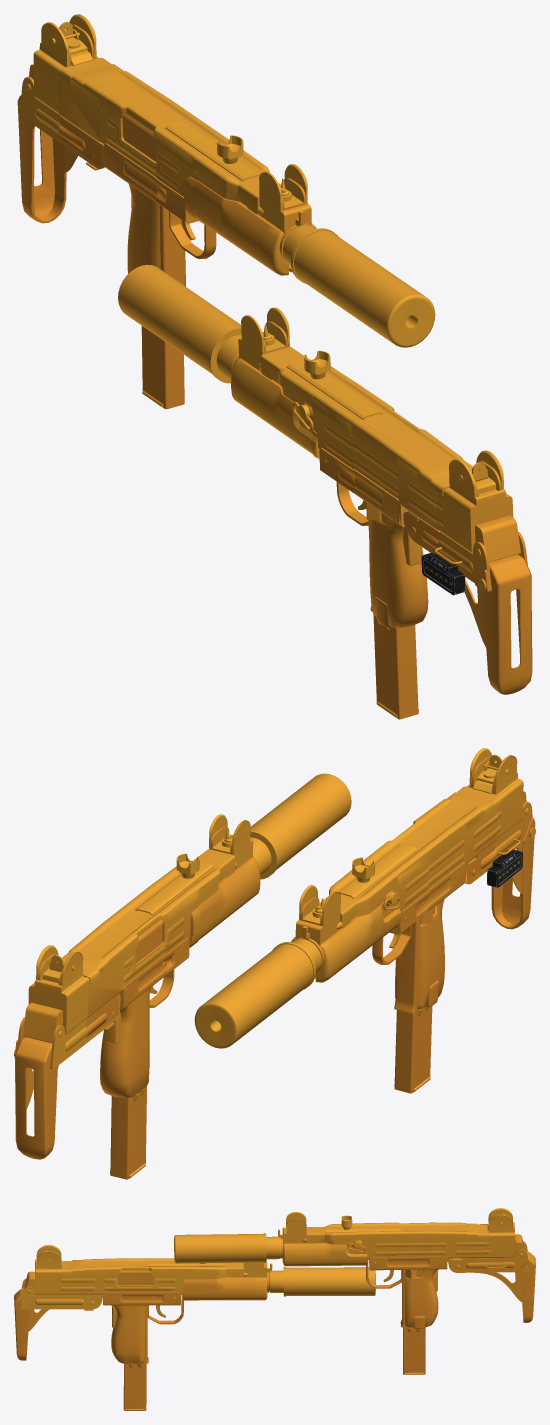
Rendered from akimbouzi.glb.
3 renders of one model, top to bottom at view 1: azimuth 30°, elevation 25°; view 2: azimuth 150°, elevation 25°; view 3: azimuth 270°, elevation 25°, orthographic. The views are drawn at different scales.
Visible parts, largest first — view 1: Handle1, Handle2, Magazine1, Sticker2, Magazine2, Sticker4, Sticker1, Sticker3, Cartridge1, Cartridge2, StatTrack.001, Gunlock2; view 2: Handle2, Handle1, Magazine2, Magazine1, Sticker1, Sticker2, Sticker4, Sticker3, Cartridge1, Cartridge2, StatTrack.001, Gunlock2; view 3: Handle2, Handle1, Magazine1, Magazine2, Cartridge2, Gunlock1, Cartridge1.
Part boxes in pixels (box(x1,y1,x2,y2)): Handle1: box(118, 265, 532, 694); Handle2: box(17, 14, 435, 347); Magazine1: box(373, 614, 418, 719); Sticker2: box(58, 68, 102, 166); Magazine2: box(141, 326, 184, 409); Sticker4: box(311, 395, 355, 492); Sticker1: box(155, 131, 199, 221); Sticker3: box(396, 457, 440, 551); Cartridge1: box(286, 350, 382, 419); Cartridge2: box(165, 121, 260, 181); StatTrack.001: box(421, 552, 465, 595); Gunlock2: box(121, 113, 156, 161); Handle2: box(14, 773, 351, 1159); Handle1: box(194, 748, 535, 1048); Magazine2: box(110, 1086, 146, 1179); Magazine1: box(394, 1006, 432, 1093); Sticker1: box(164, 889, 200, 974); Sticker2: box(85, 954, 121, 1039); Sticker4: box(392, 852, 430, 932); Sticker3: box(464, 803, 498, 882); Cartridge1: box(338, 843, 416, 898); Cartridge2: box(135, 853, 213, 914); StatTrack.001: box(487, 849, 522, 887); Gunlock2: box(135, 920, 163, 963); Handle2: box(174, 1208, 535, 1329); Handle1: box(14, 1245, 375, 1363); Magazine1: box(123, 1363, 146, 1410); Magazine2: box(403, 1327, 425, 1374); Cartridge2: box(325, 1215, 400, 1232); Gunlock1: box(118, 1270, 152, 1285); Cartridge1: box(149, 1261, 224, 1266).
Size of the model in its own units: 0.0987 by 0.3266 by 0.7492.
Materials: 6 (6 with a texture image).
